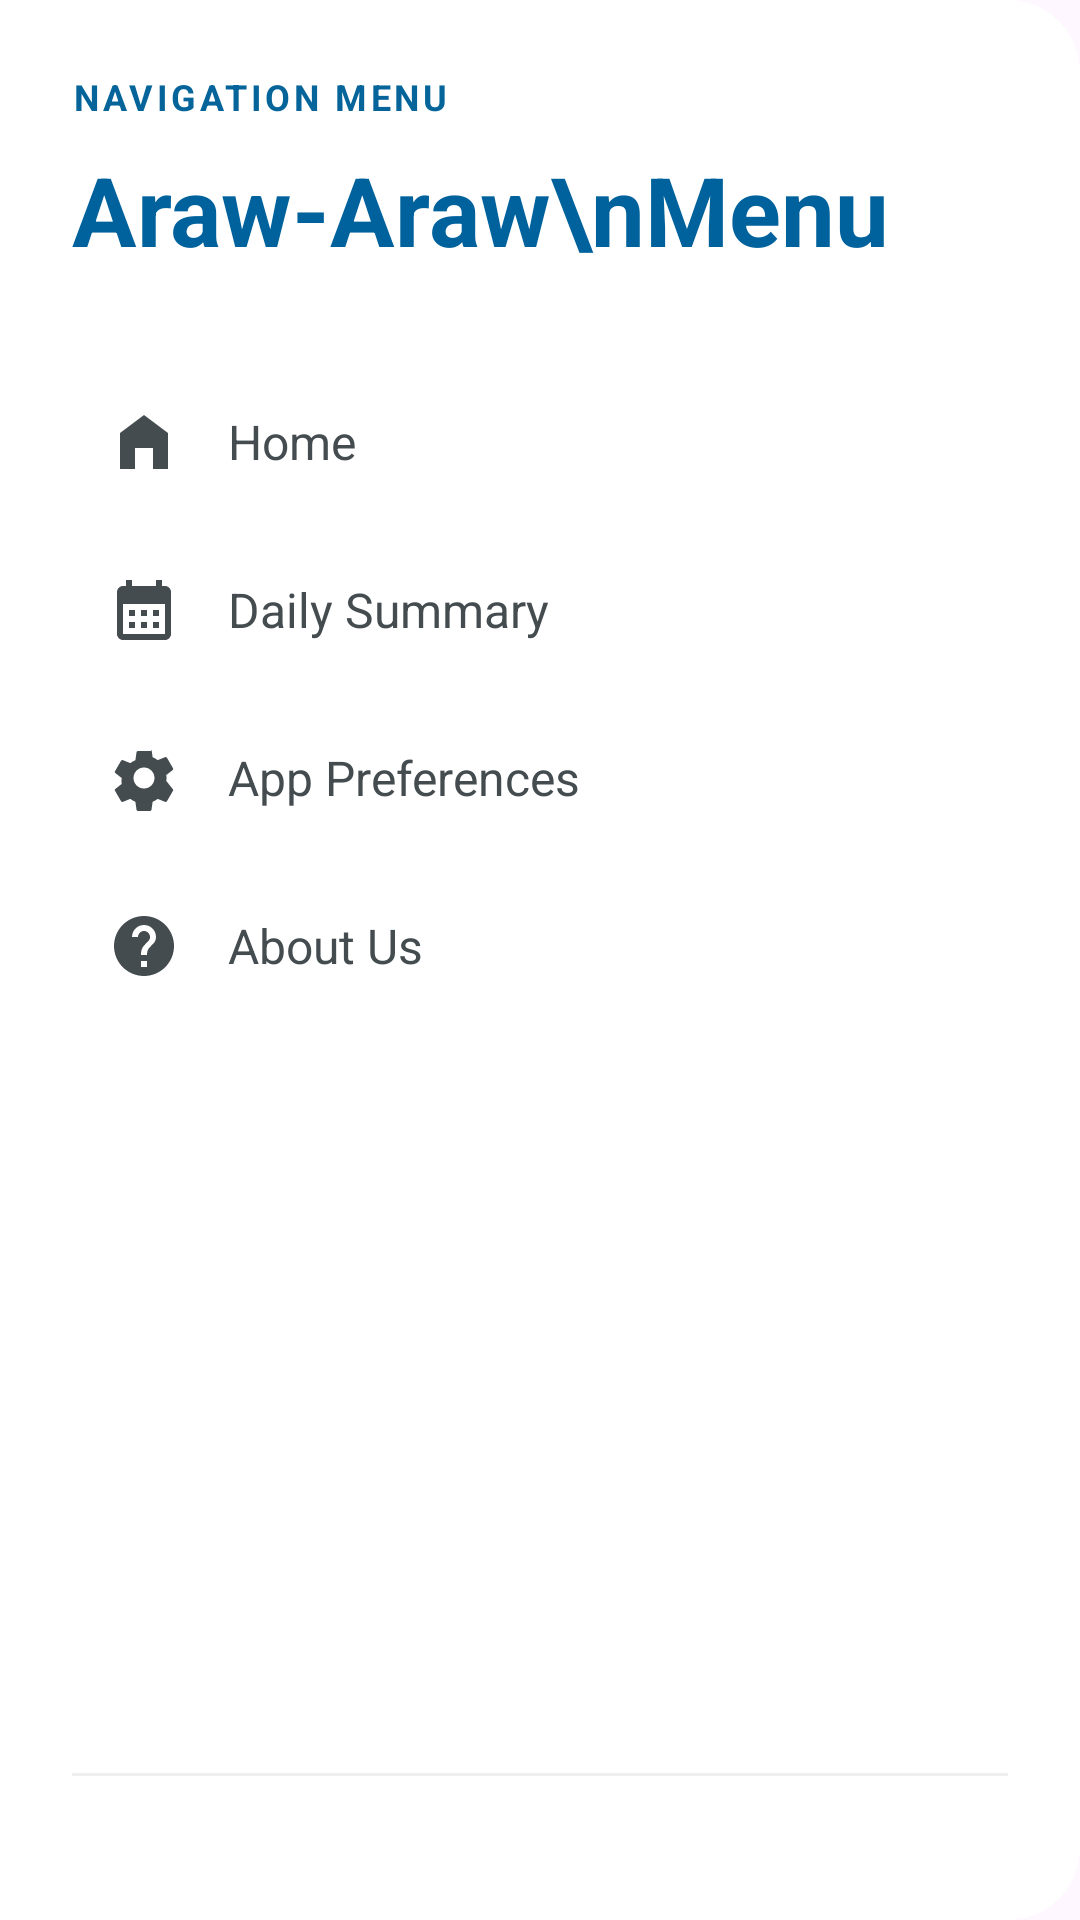

Where to tap for icons on this 1080 × 1920 app screen, as (x,y):
help: (144,946)
settings: (144,780)
